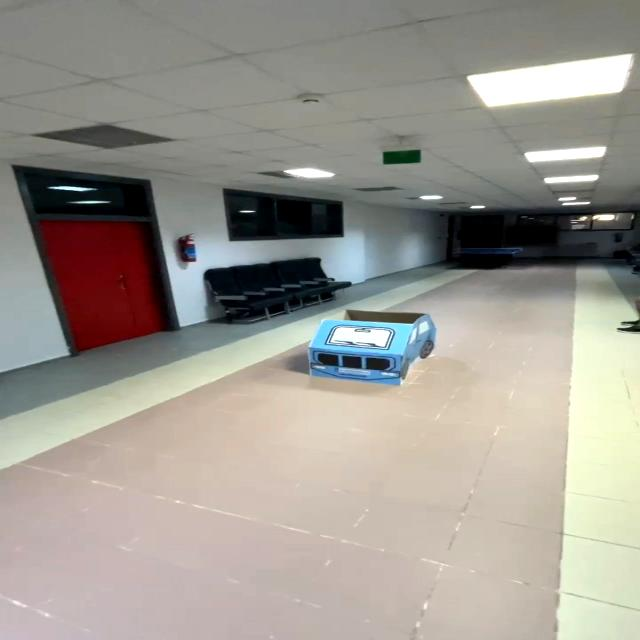blue_car: (274, 298, 451, 409)
